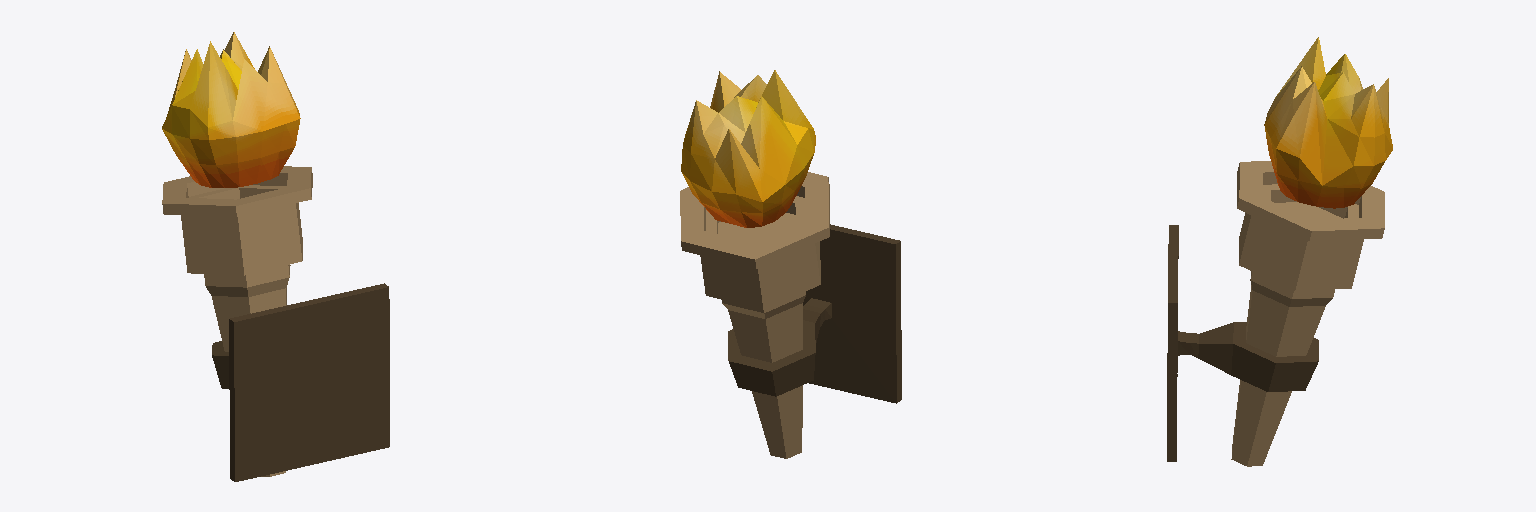
3 renders of one model, left to right at view 1: azimuth 30°, elevation 25°; view 2: azimuth 150°, elevation 25°; view 3: azimuth 270°, elevation 25°, orthographic.
Visible parts, largest first — view 1: Circle, Cube; view 2: Circle, Cube; view 3: Circle, Cube.
Part boxes in pixels (x1,y1,x2,y2): Circle: (162, 166, 389, 481); Cube: (162, 32, 300, 187); Circle: (680, 172, 901, 458); Cube: (681, 70, 815, 227); Circle: (1167, 161, 1384, 466); Cube: (1264, 37, 1392, 208).
Bounding box in the file's own units: 9.67 × 24.7 × 12.27.
Materials: 2 (2 with a texture image).